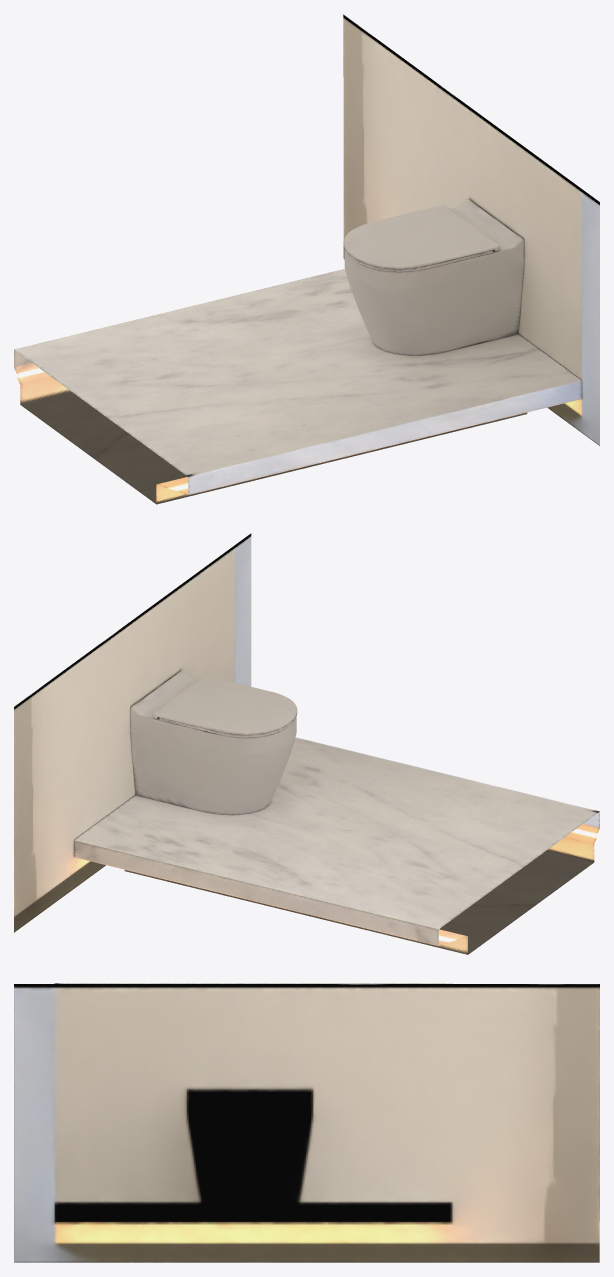
File: Margo_R_final.fbx
The picture shows the model from 3 angles, top to bottom: view 1: azimuth 30°, elevation 25°; view 2: azimuth 150°, elevation 25°; view 3: azimuth 270°, elevation 25°; orthographic projection. The views are drawn at different scales.
Visible parts, largest first — view 1: Margo_R_final; view 2: Margo_R_final; view 3: Margo_R_final.
Part boxes in pixels (bbox=[...]): Margo_R_final: bbox=[14, 14, 599, 504]; Margo_R_final: bbox=[14, 533, 599, 954]; Margo_R_final: bbox=[14, 983, 599, 1262].
Size of the model in its own units: 2644 by 1516 by 2887.
